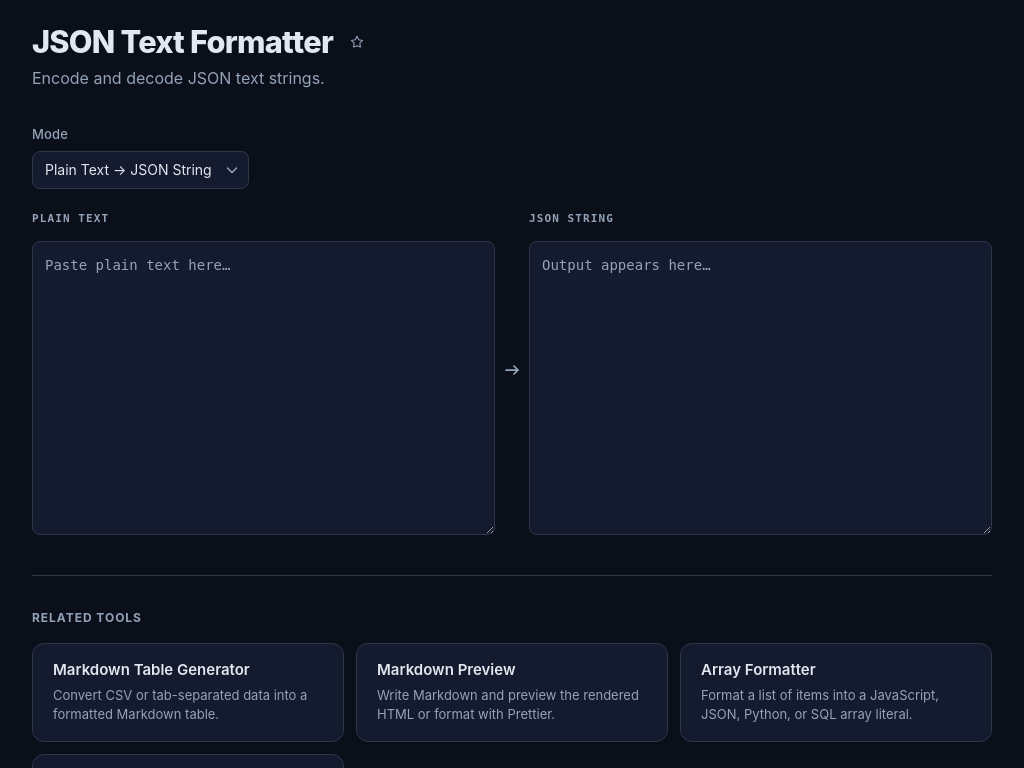
it: JsonTextFormatter › encodes text to JSON string
Type "hello world" into the text box labelled "Paste plain text here…" at (264, 388), box x1=32 y1=240 x2=495 y2=535
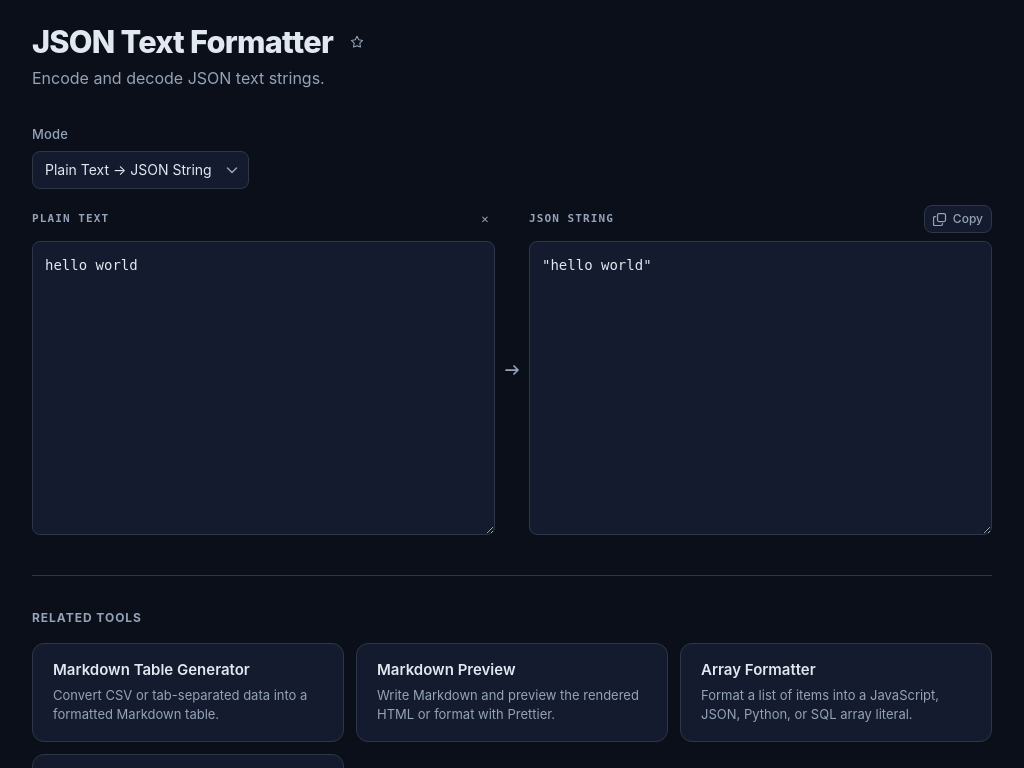
Expected: the text box named "json string" holds "\"hello world\"", x1=529 y1=240 x2=992 y2=535
